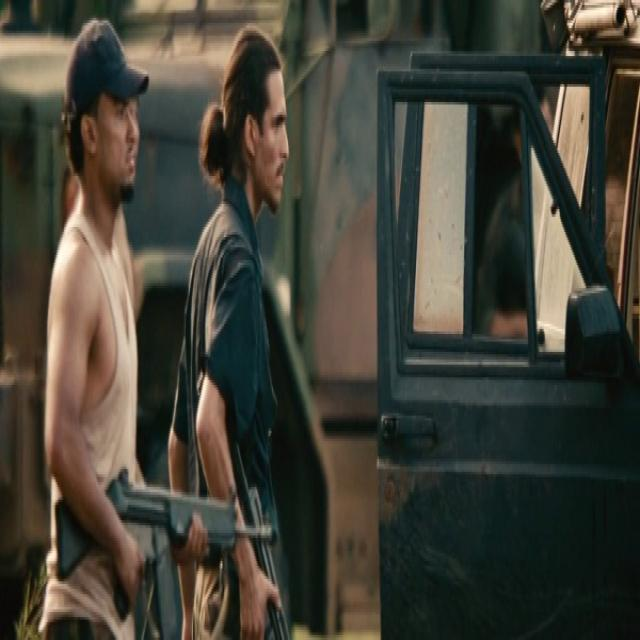rifle: (55, 477, 277, 640)
